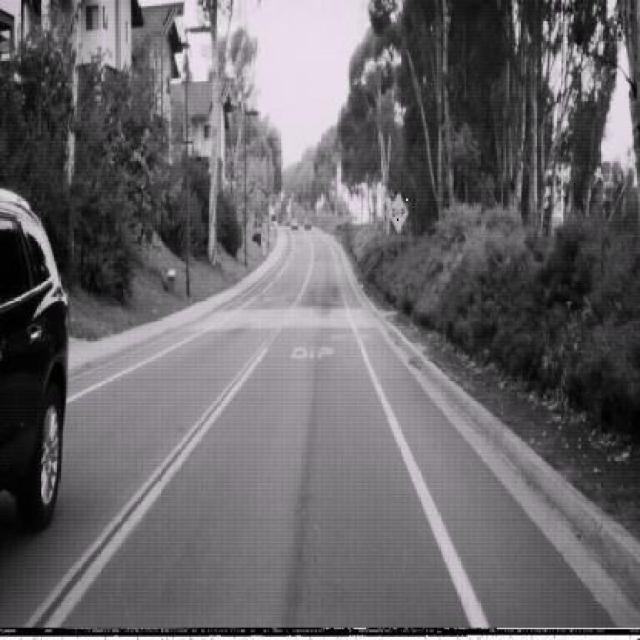dip: (388, 192, 409, 235)
